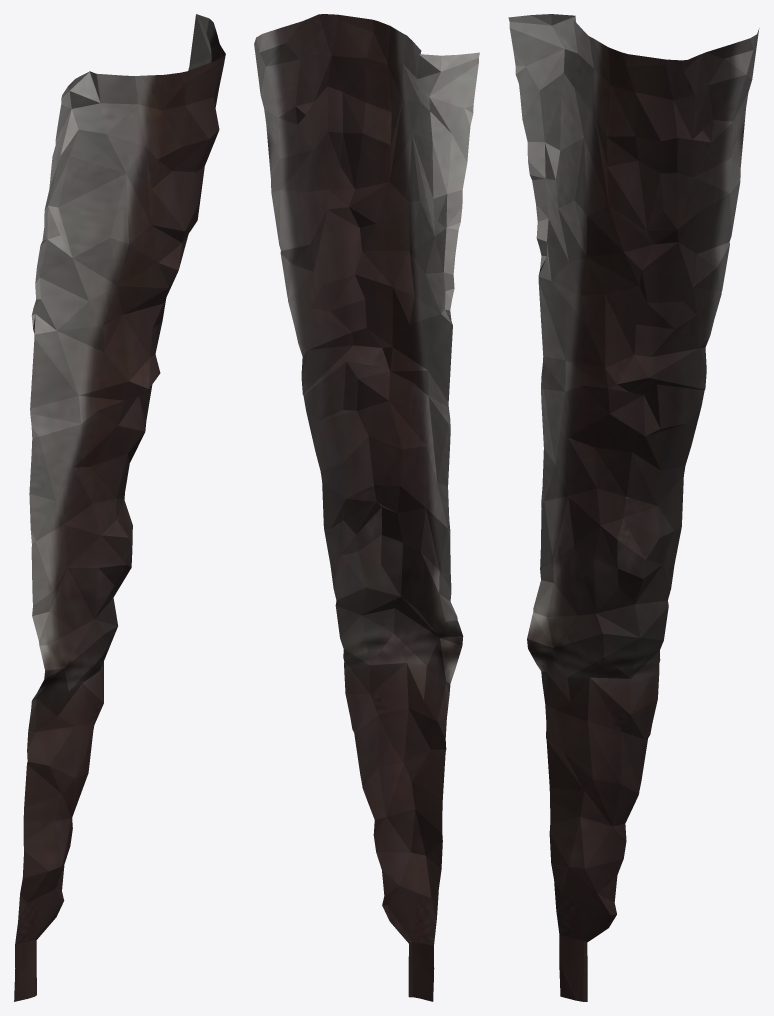
3 renders of one model, left to right at view 1: azimuth 30°, elevation 25°; view 2: azimuth 150°, elevation 25°; view 3: azimuth 330°, elevation 25°, orthographic. The views are drawn at different scales.
Size of the model in its own units: 0.1754 by 0.8374 by 0.091.
1 material, 1 textured.
